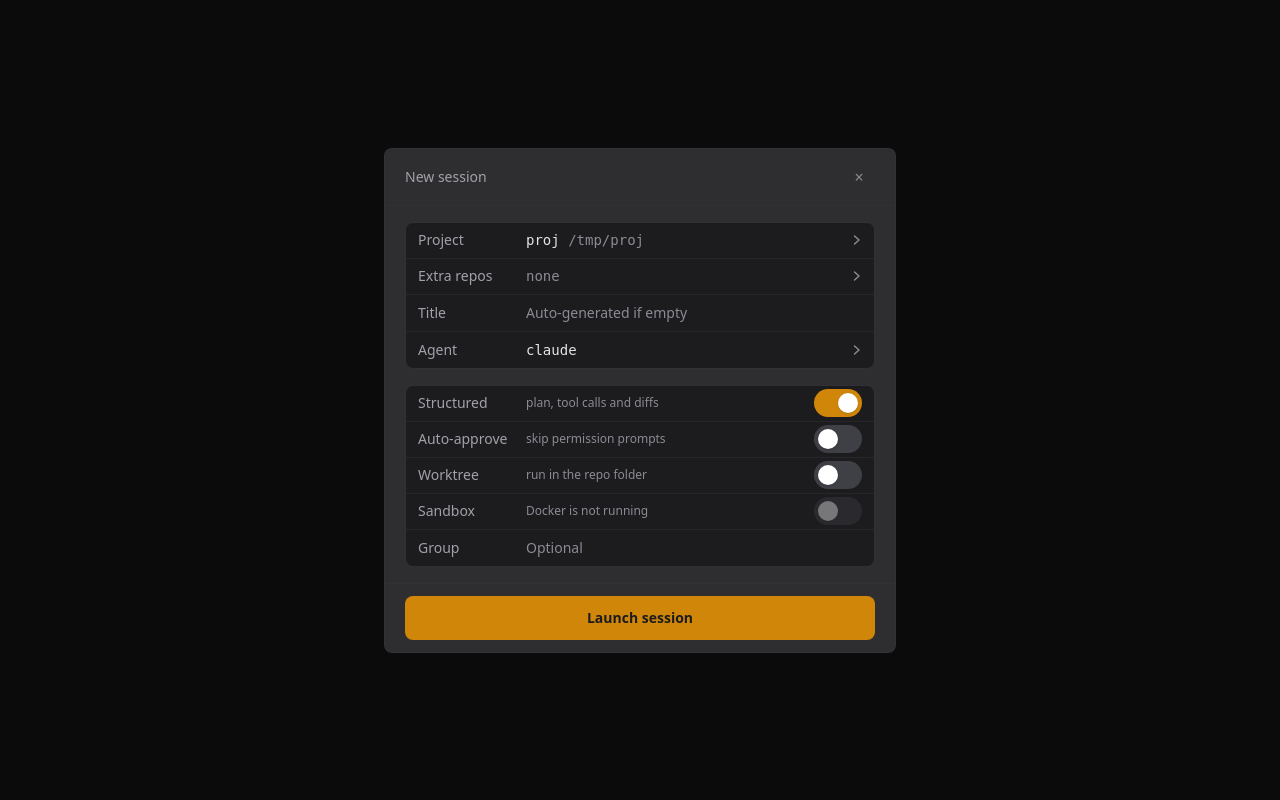
SessionWizard hooks trust › Cancel dismisses the dialog without a second submit
The width and height of the screenshot is (1280, 800).
Click the button "Launch session".
click(640, 618)  # box [405,596,875,640]
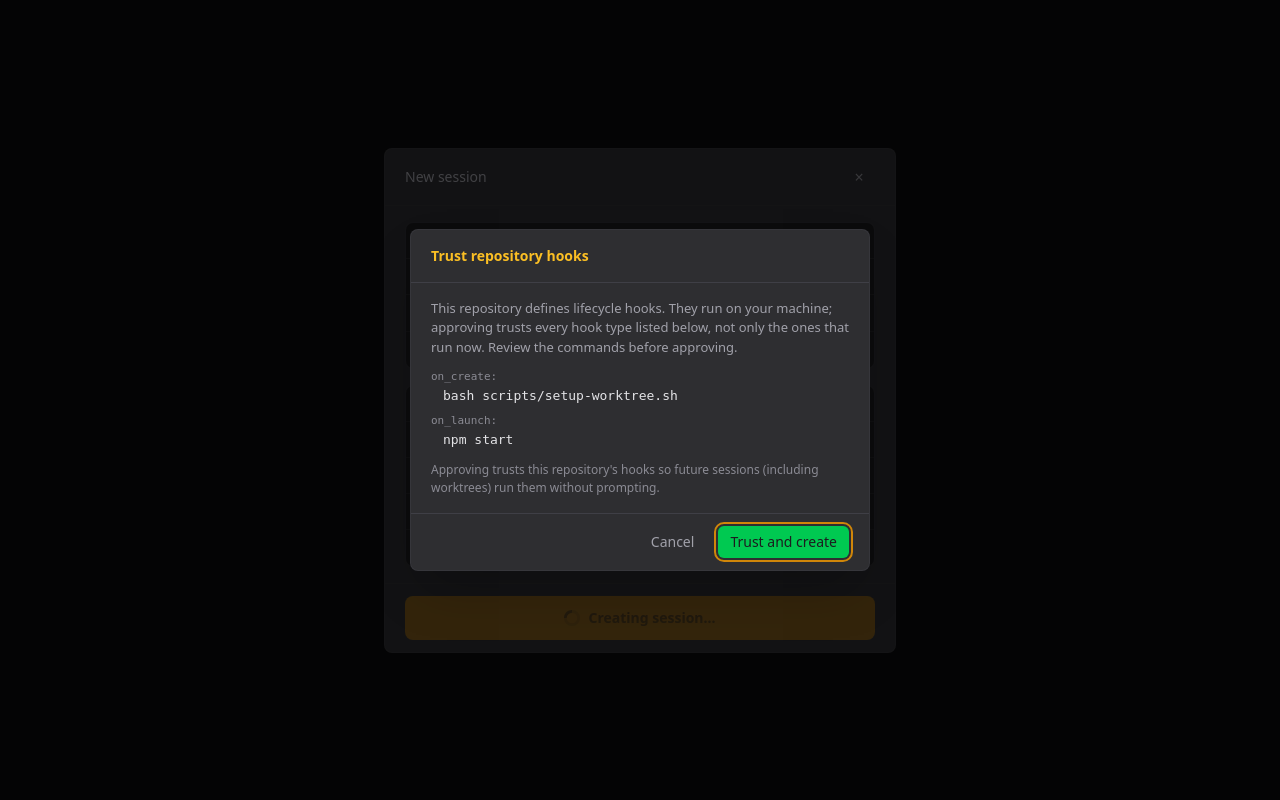
Expected: the dialog with test id "hooks-trust-dialog" is shown
Click the button "Cancel".
click(673, 542)  # box [639,526,706,558]
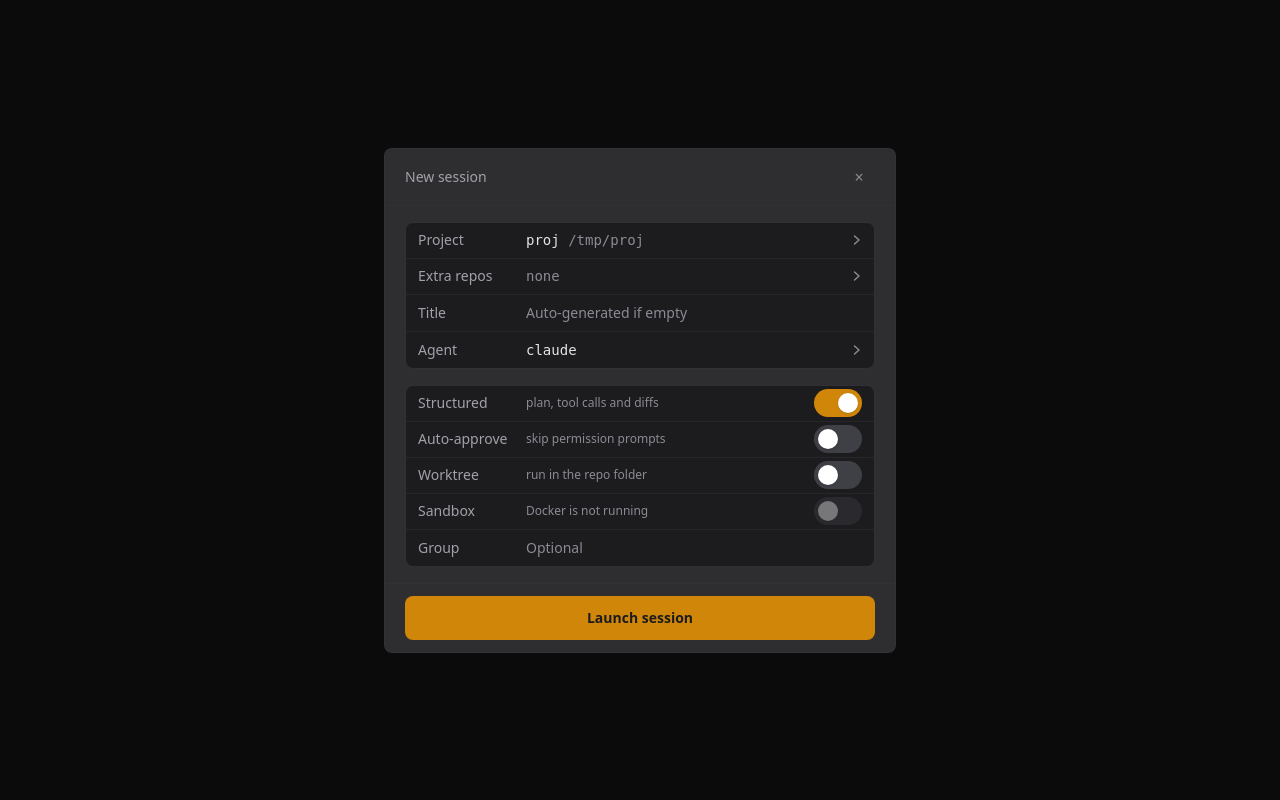
Expected: the dialog with test id "hooks-trust-dialog" is gone
